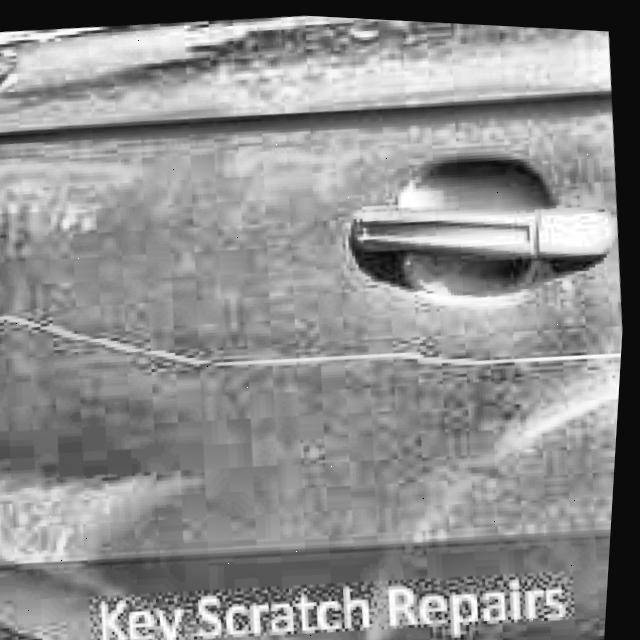door_scratch: (122, 292, 623, 422)
